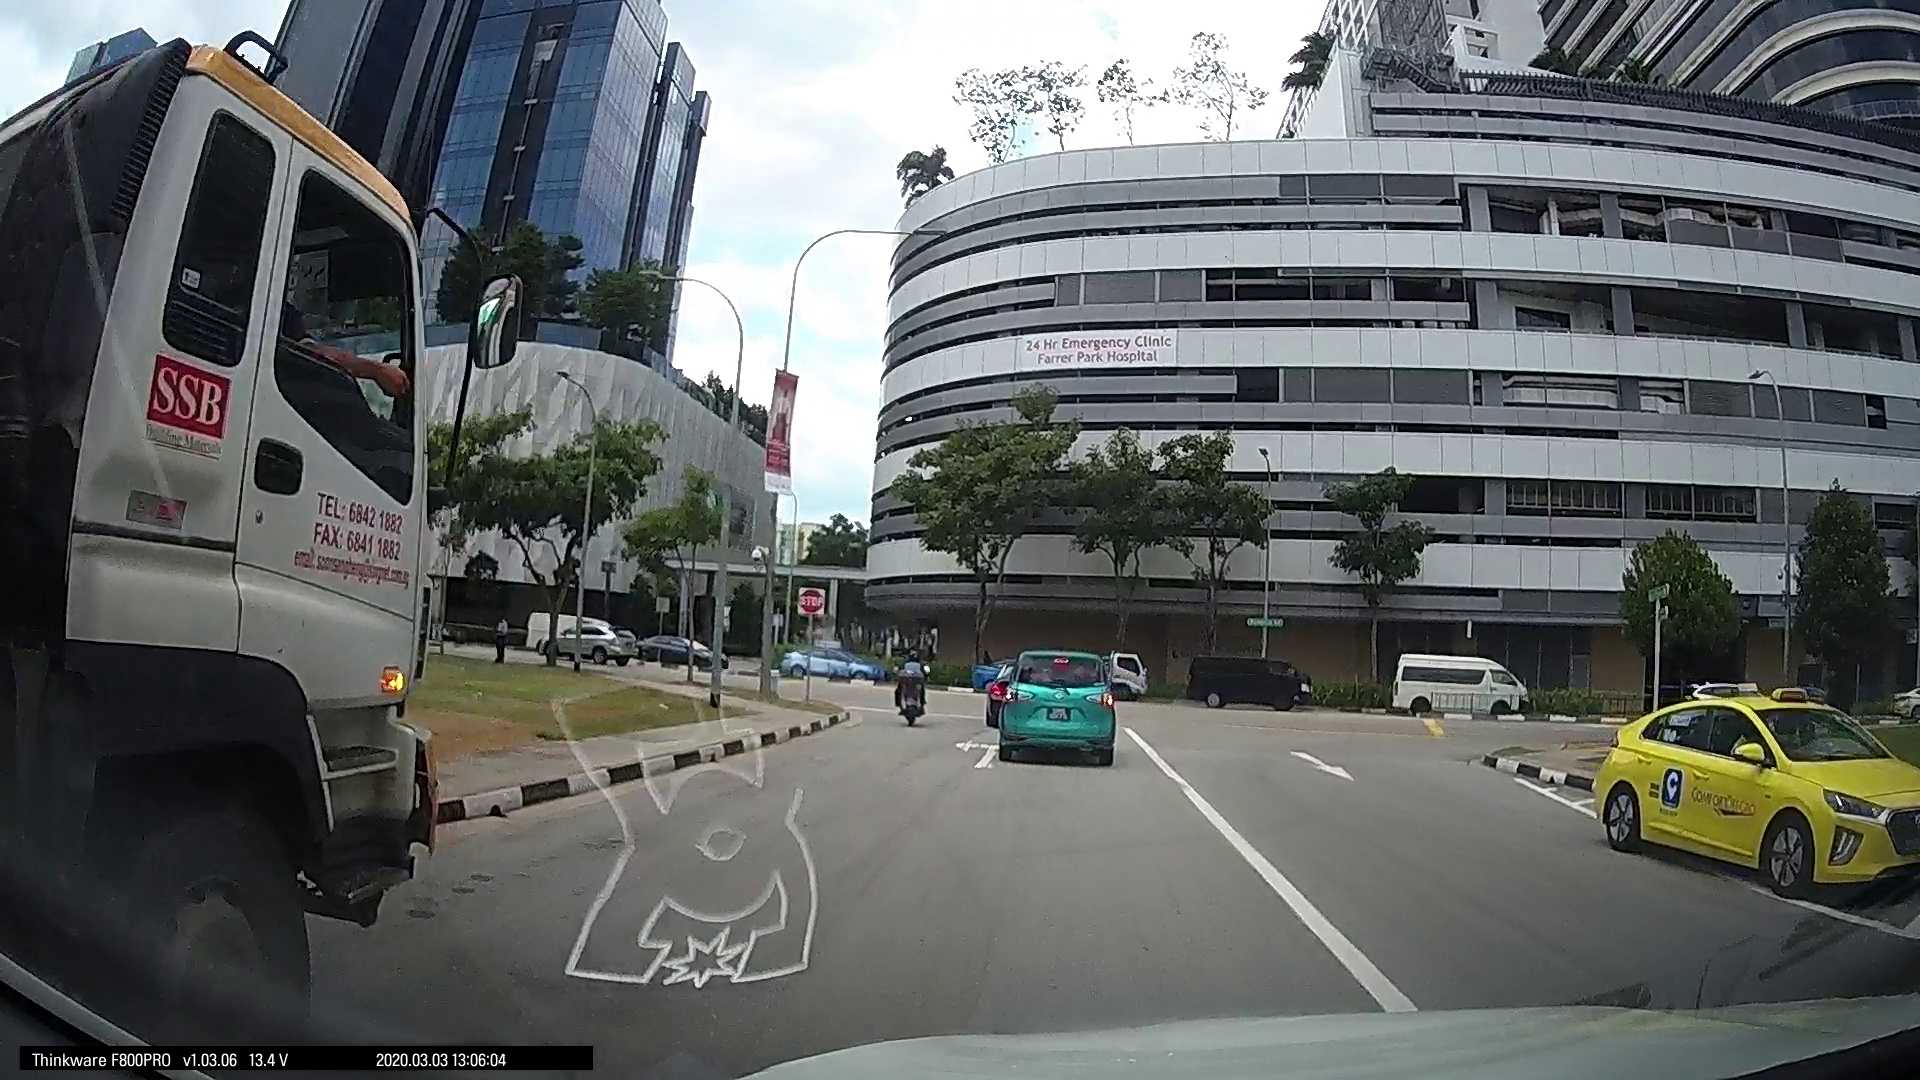Heavy Vehicle: (12, 1, 443, 1015)
Light Vehicle: (1582, 686, 1916, 901), (988, 644, 1120, 766), (1379, 647, 1538, 717), (1183, 646, 1308, 709), (533, 611, 633, 666), (774, 640, 874, 683)
Motorcycle: (887, 642, 927, 723)
